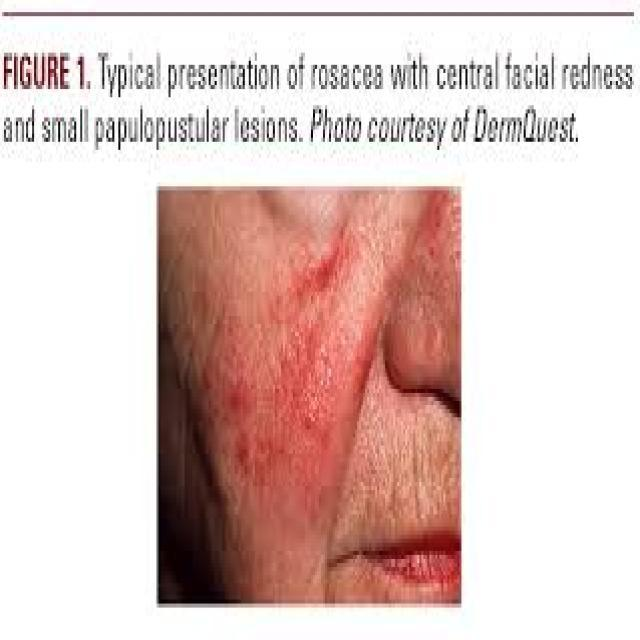Rosacea: (208, 227, 377, 512)
